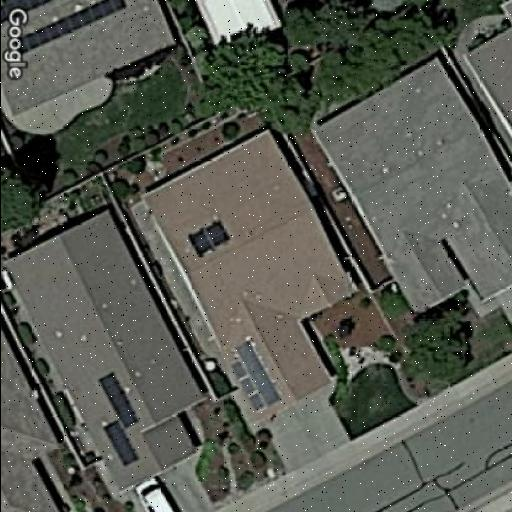solar-panel: (2, 0, 126, 53), (96, 370, 140, 466), (229, 338, 283, 412), (186, 216, 232, 260)
